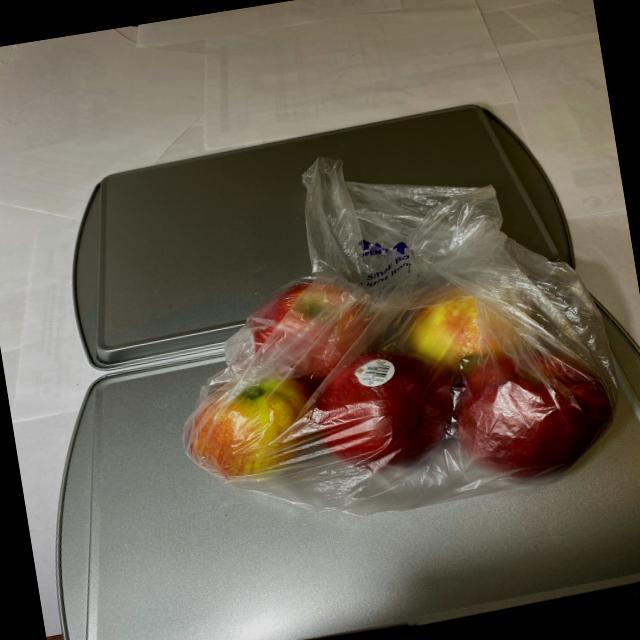apple: (154, 233, 630, 544)
